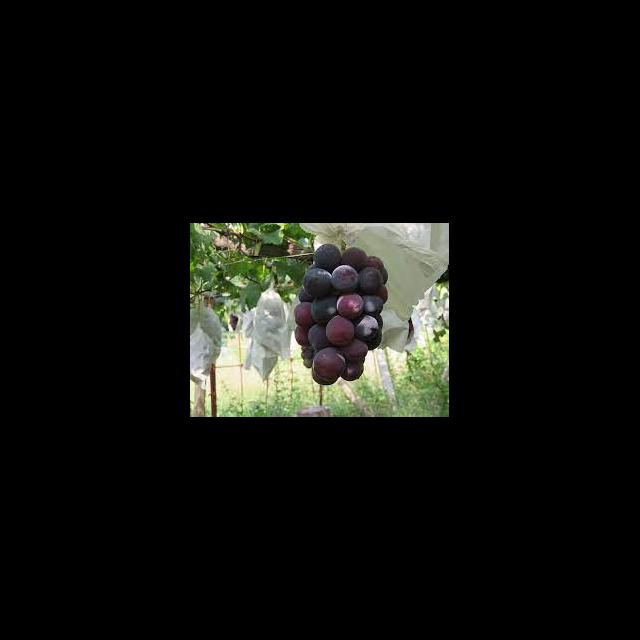grape: (294, 243, 388, 385)
